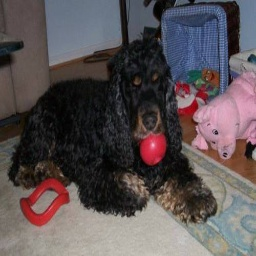dog: (11, 40, 221, 225)
